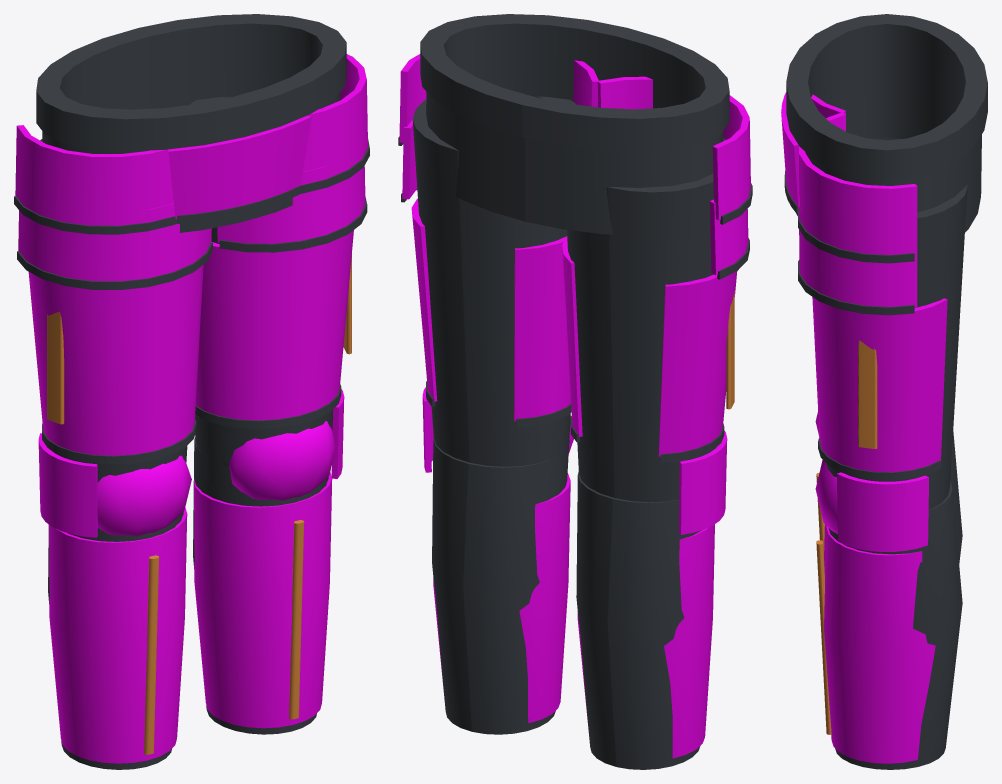
The model's file is porte_armure3_jambieres.glb.
The picture shows the model from 3 angles, left to right: view 1: azimuth 30°, elevation 25°; view 2: azimuth 150°, elevation 25°; view 3: azimuth 270°, elevation 25°; orthographic projection. The views are drawn at different scales.
Parts seen in each view (by area): view 1: cuisse_d__jambieres_teinte.010, jambe_d__jambieres_teinte.010, bassin__jambieres_teinte_sombre.008, cuisse_g__jambieres_teinte.010, jambe_g__jambieres_teinte.010, bassin__jambieres_teinte.010, cuisse_g__jambieres_teinte_sombre.008, cuisse_d__jambieres_teinte_sombre.008, jambe_g__jambieres_teinte_sombre.008, jambe_d__jambieres_composite_bande.002, jambe_g__jambieres_composite_bande.002, cuisse_d__jambieres_composite_bande.002 (+1 smaller); view 2: bassin__jambieres_teinte_sombre.008, cuisse_d__jambieres_teinte_sombre.008, cuisse_g__jambieres_teinte_sombre.008, jambe_g__jambieres_teinte_sombre.008, jambe_d__jambieres_teinte_sombre.008, cuisse_d__jambieres_teinte.010, cuisse_g__jambieres_teinte.010, jambe_d__jambieres_teinte.010, jambe_g__jambieres_teinte.010, cuisse_d__jambieres_composite_bande.002; view 3: cuisse_g__jambieres_teinte.010, bassin__jambieres_teinte_sombre.008, jambe_g__jambieres_teinte.010, cuisse_g__jambieres_teinte_sombre.008, jambe_g__jambieres_teinte_sombre.008, cuisse_g__jambieres_composite_bande.002, bassin__jambieres_teinte.010, jambe_g__jambieres_composite_bande.002, jambe_d__jambieres_teinte_sombre.008.
Boxes of the visible parts, box(x1,y1,x2,y2) form: cuisse_d__jambieres_teinte.010: box(15, 125, 211, 455); jambe_d__jambieres_teinte.010: box(38, 433, 191, 763); bassin__jambieres_teinte_sombre.008: box(36, 14, 346, 232); cuisse_g__jambieres_teinte.010: box(196, 54, 367, 420); jambe_g__jambieres_teinte.010: box(194, 389, 344, 728); bassin__jambieres_teinte.010: box(168, 115, 311, 219); cuisse_g__jambieres_teinte_sombre.008: box(190, 96, 369, 502); cuisse_d__jambieres_teinte_sombre.008: box(14, 139, 212, 538); jambe_g__jambieres_teinte_sombre.008: box(193, 437, 326, 734); jambe_d__jambieres_composite_bande.002: box(144, 555, 159, 754); jambe_g__jambieres_composite_bande.002: box(289, 520, 304, 719); cuisse_d__jambieres_composite_bande.002: box(47, 311, 64, 424); bassin__jambieres_teinte_sombre.008: box(420, 14, 729, 234); cuisse_d__jambieres_teinte_sombre.008: box(567, 139, 752, 502); cuisse_g__jambieres_teinte_sombre.008: box(398, 96, 575, 486); jambe_g__jambieres_teinte_sombre.008: box(432, 438, 569, 734); jambe_d__jambieres_teinte_sombre.008: box(576, 472, 701, 769); cuisse_d__jambieres_teinte.010: box(562, 76, 750, 456); cuisse_g__jambieres_teinte.010: box(399, 54, 598, 421); jambe_d__jambieres_teinte.010: box(577, 430, 727, 758); jambe_g__jambieres_teinte.010: box(422, 387, 573, 723); cuisse_d__jambieres_composite_bande.002: box(726, 291, 734, 409); cuisse_g__jambieres_teinte.010: box(798, 112, 947, 472); bassin__jambieres_teinte_sombre.008: box(784, 14, 987, 232); jambe_g__jambieres_teinte.010: box(815, 460, 935, 763); cuisse_g__jambieres_teinte_sombre.008: box(798, 185, 967, 553); jambe_g__jambieres_teinte_sombre.008: box(828, 482, 962, 769); cuisse_g__jambieres_composite_bande.002: box(858, 340, 877, 448); bassin__jambieres_teinte.010: box(781, 92, 799, 207); jambe_g__jambieres_composite_bande.002: box(816, 540, 831, 734); jambe_d__jambieres_teinte_sombre.008: box(950, 432, 962, 563).
Bounding box in the file's own units: 0.4379 × 0.83 × 0.246.
